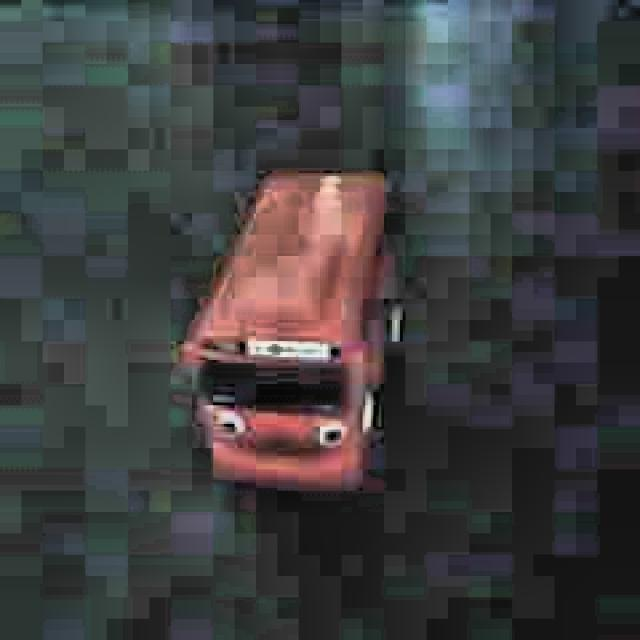bus: (170, 158, 420, 500)
